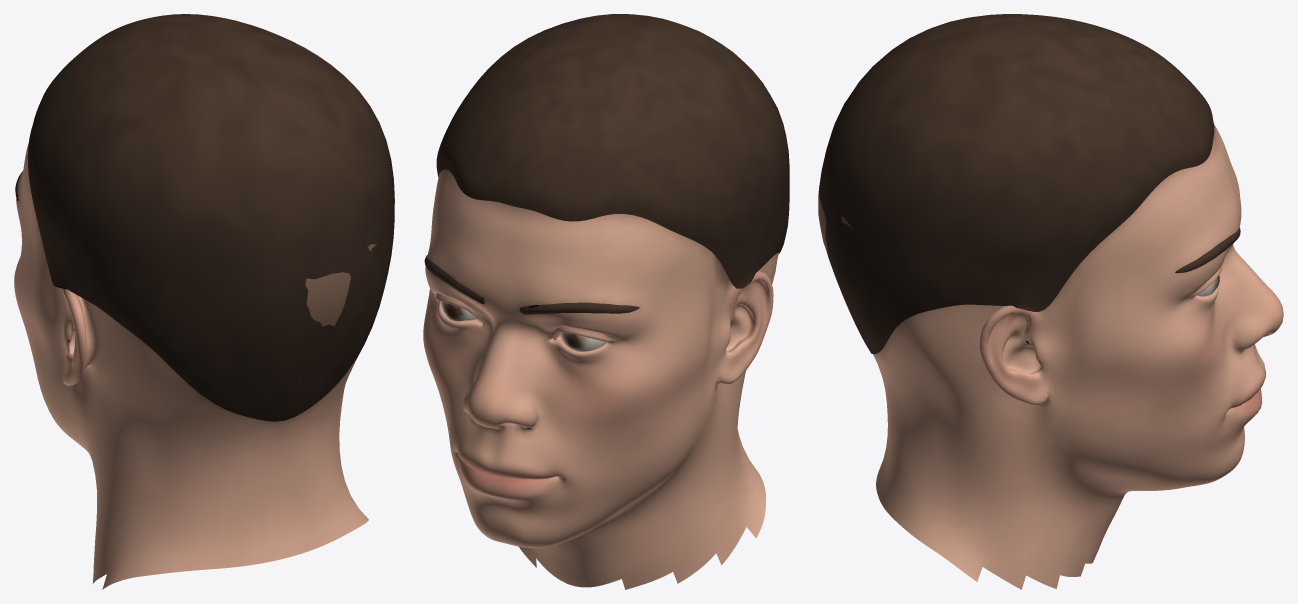
The model's file is peter_head.glb.
3 views of the same model, side by side, from view 1: azimuth 30°, elevation 25°; view 2: azimuth 150°, elevation 25°; view 3: azimuth 270°, elevation 25° (orthographic). The views are drawn at different scales.
Visible parts, largest first — view 1: head_hair_helmet, head_face; view 2: head_face, head_hair_helmet, head_brows, head_eyeL; view 3: head_face, head_hair_helmet, head_brows.
Boxes of the visible parts, box(x1,y1,x2,y2) form: head_hair_helmet: box(27, 14, 394, 421); head_face: box(14, 142, 376, 589); head_face: box(423, 169, 778, 589); head_hair_helmet: box(436, 14, 789, 288); head_brows: box(424, 255, 639, 314); head_eyeL: box(560, 332, 605, 351); head_face: box(818, 124, 1283, 589); head_hair_helmet: box(818, 14, 1214, 353); head_brows: box(1175, 227, 1240, 273).
Bounding box in the file's own units: 0.1677 × 0.2825 × 0.2263.
4 materials, 4 textured.
